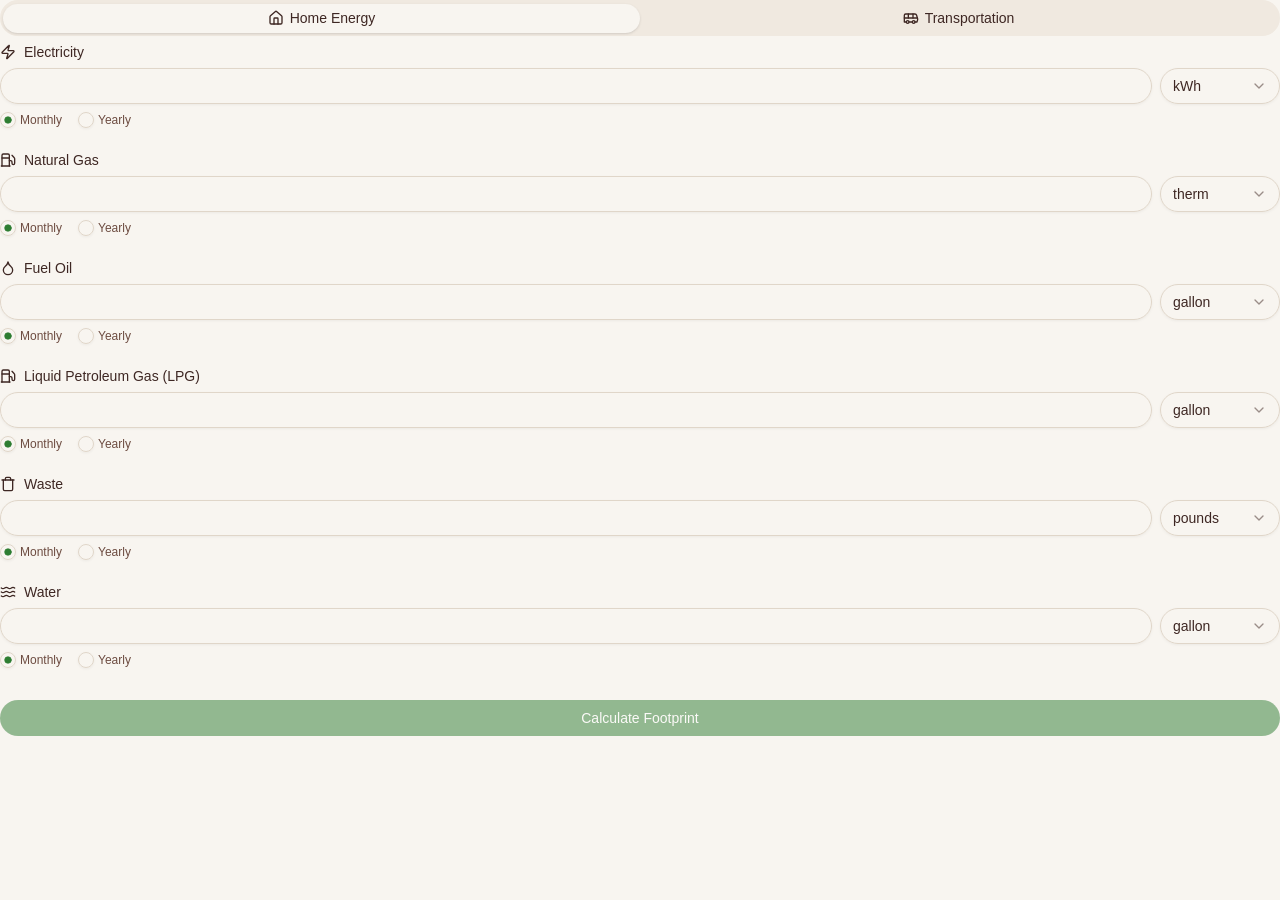
Test: Shows result dialog after submitting
Type "100" into the number field labelled "Electricity" at (576, 86), box [0,68,1152,104]
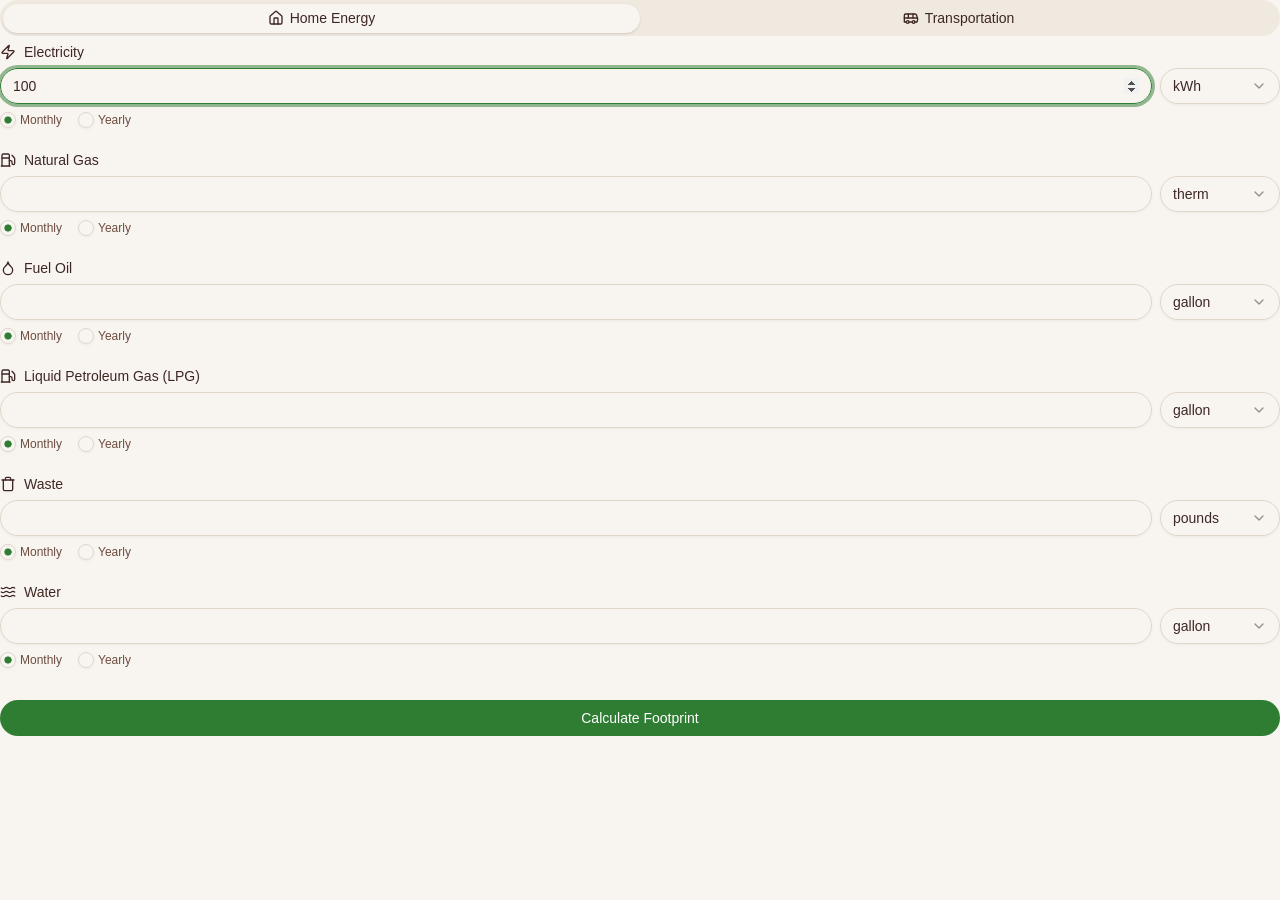
Now the button "Calculate Footprint" is enabled
Click the button "Calculate Footprint" at (640, 718), box [0,700,1279,736]
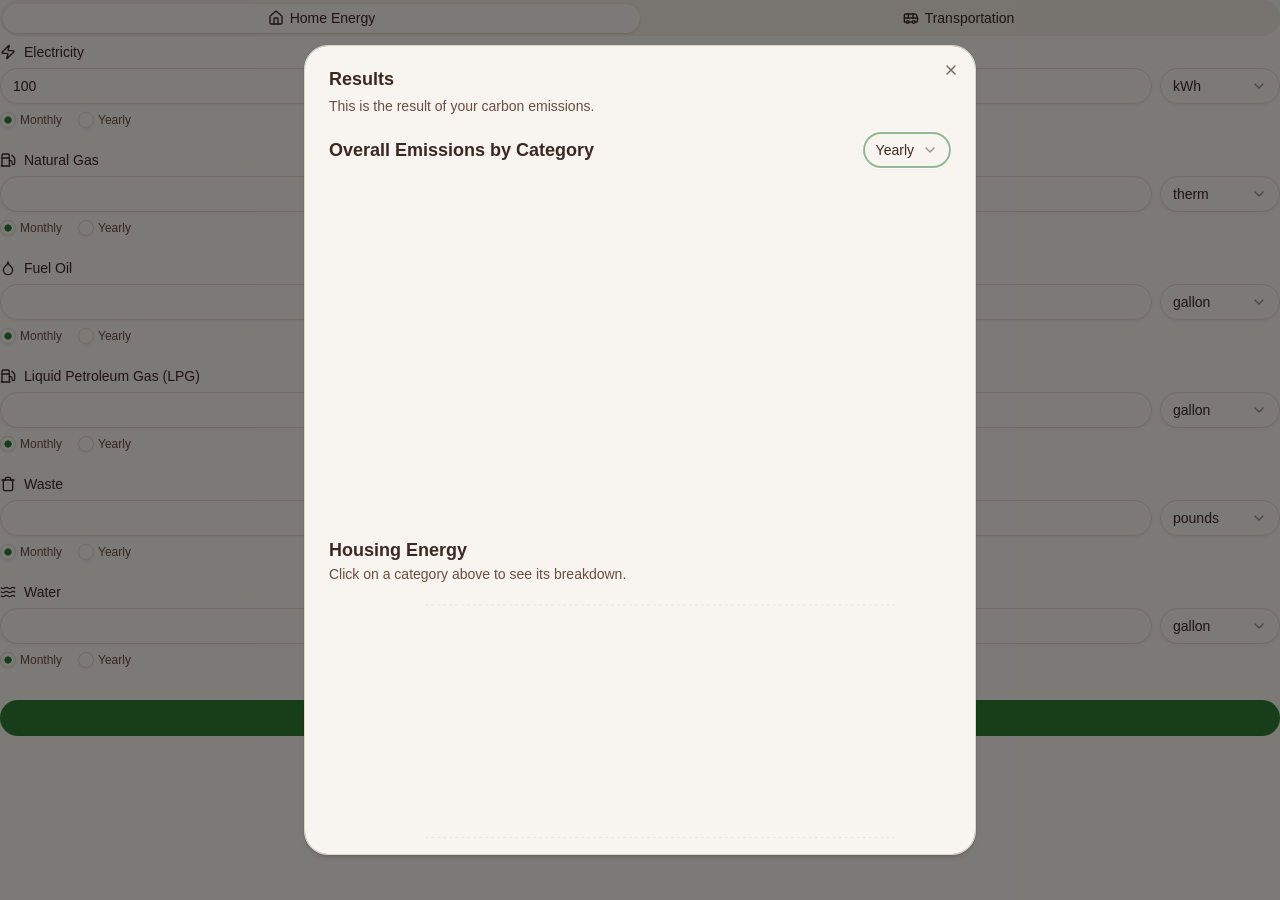
Now the dialog "Results" is shown, box [304,45,976,855]
Now the heading "Overall Emissions by Category" is shown, box [329,136,594,164]
